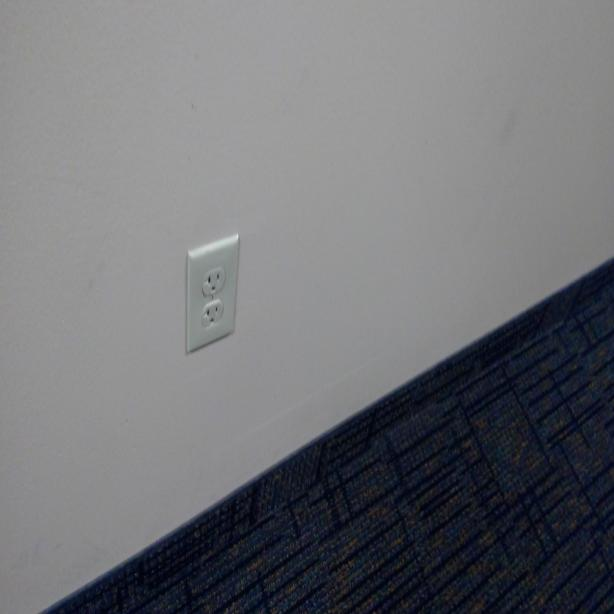typeb: (203, 268, 224, 294), (204, 302, 222, 331)
